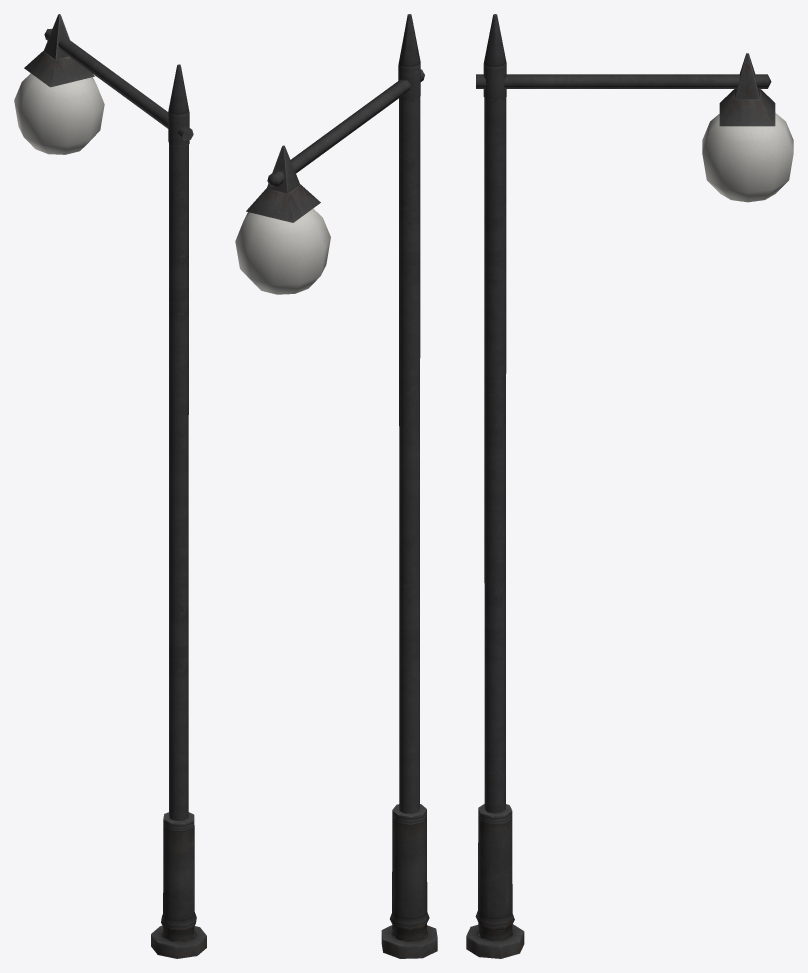
File: Overhanging_Sidewalk_-_Light_off.glb
The picture shows the model from 3 angles, left to right: view 1: azimuth 30°, elevation 25°; view 2: azimuth 150°, elevation 25°; view 3: azimuth 270°, elevation 25°; orthographic projection. The views are drawn at different scales.
Visible parts, largest first — view 1: Overhanging_Sidewalk_Light_Off__LOD3; view 2: Overhanging_Sidewalk_Light_Off__LOD3; view 3: Overhanging_Sidewalk_Light_Off__LOD3.
Part boxes in pixels (x1=…): Overhanging_Sidewalk_Light_Off__LOD3: x1=14, y1=14, x2=206, y2=958; Overhanging_Sidewalk_Light_Off__LOD3: x1=235, y1=14, x2=437, y2=958; Overhanging_Sidewalk_Light_Off__LOD3: x1=466, y1=14, x2=793, y2=958.
Size of the model in its own units: 0.3607 by 3.85 by 1.23.
1 material, 1 textured.
